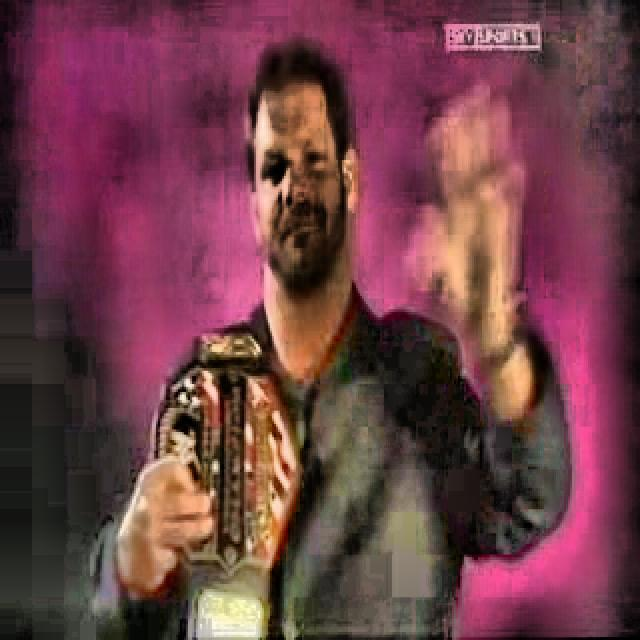L: (91, 43, 568, 638)
